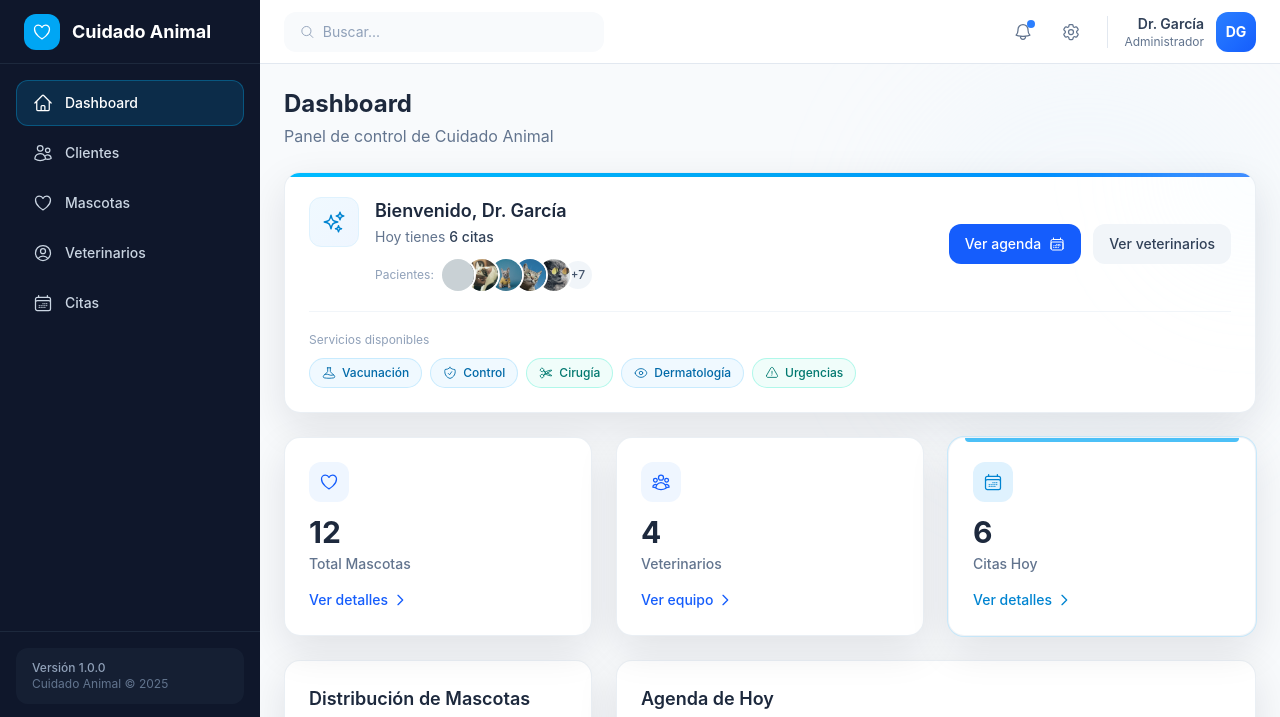
Navegación Sidebar › navega a Citas
Expected: the heading "Dashboard" is shown, [284,89,412,118]
Click the link "Citas" at coordinates (66, 303), box [33,293,99,313]
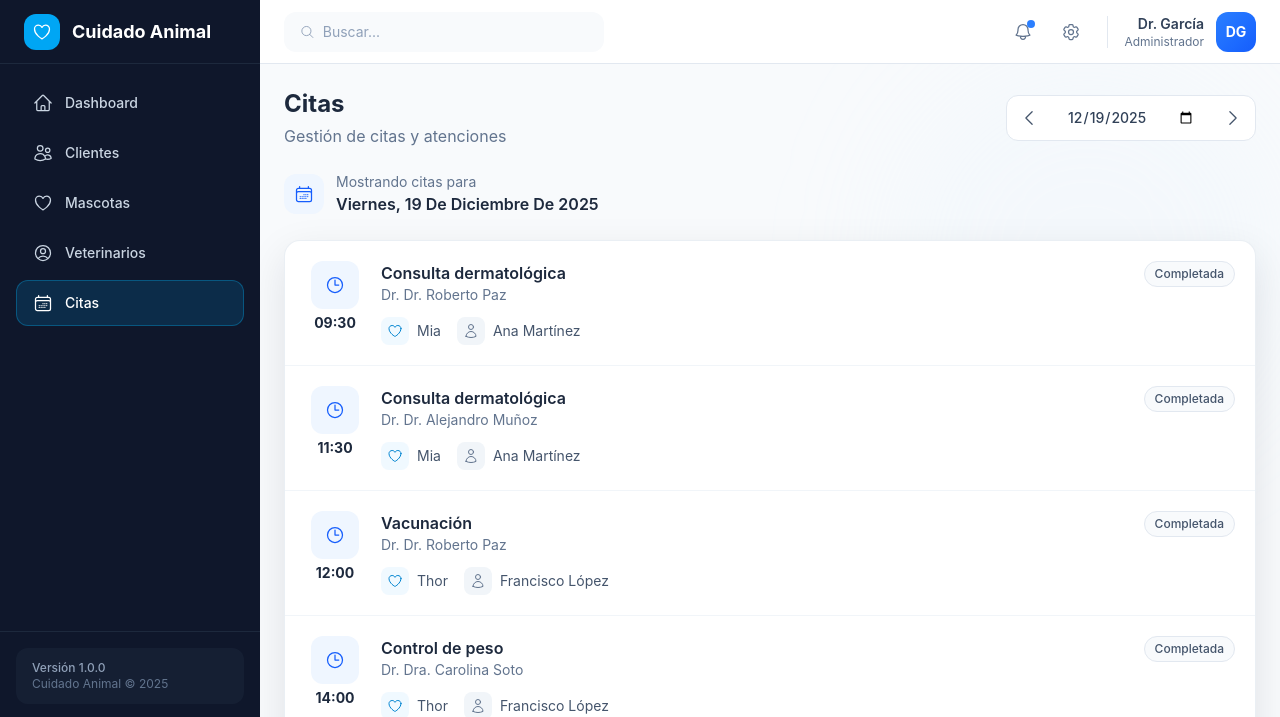
Expected: the heading "Citas" is shown, [284,89,344,118]
